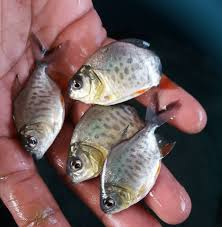Ikan Bawal: (62, 24, 182, 108), (93, 102, 172, 222), (9, 40, 67, 162)
